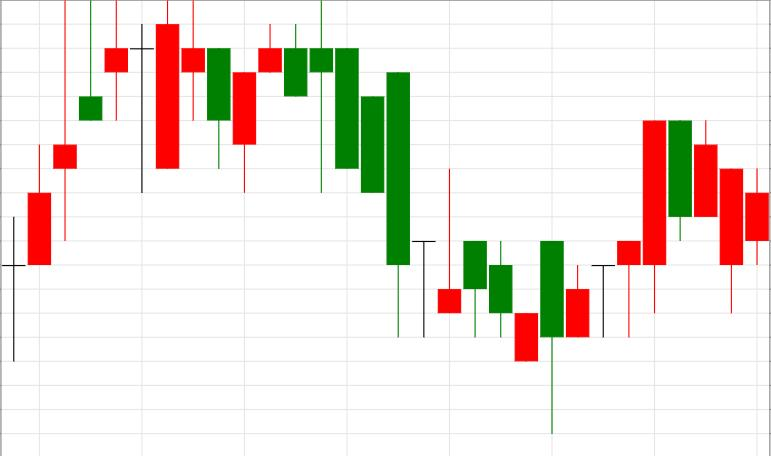inverse_hammer_rise: (309, 1, 462, 337)
